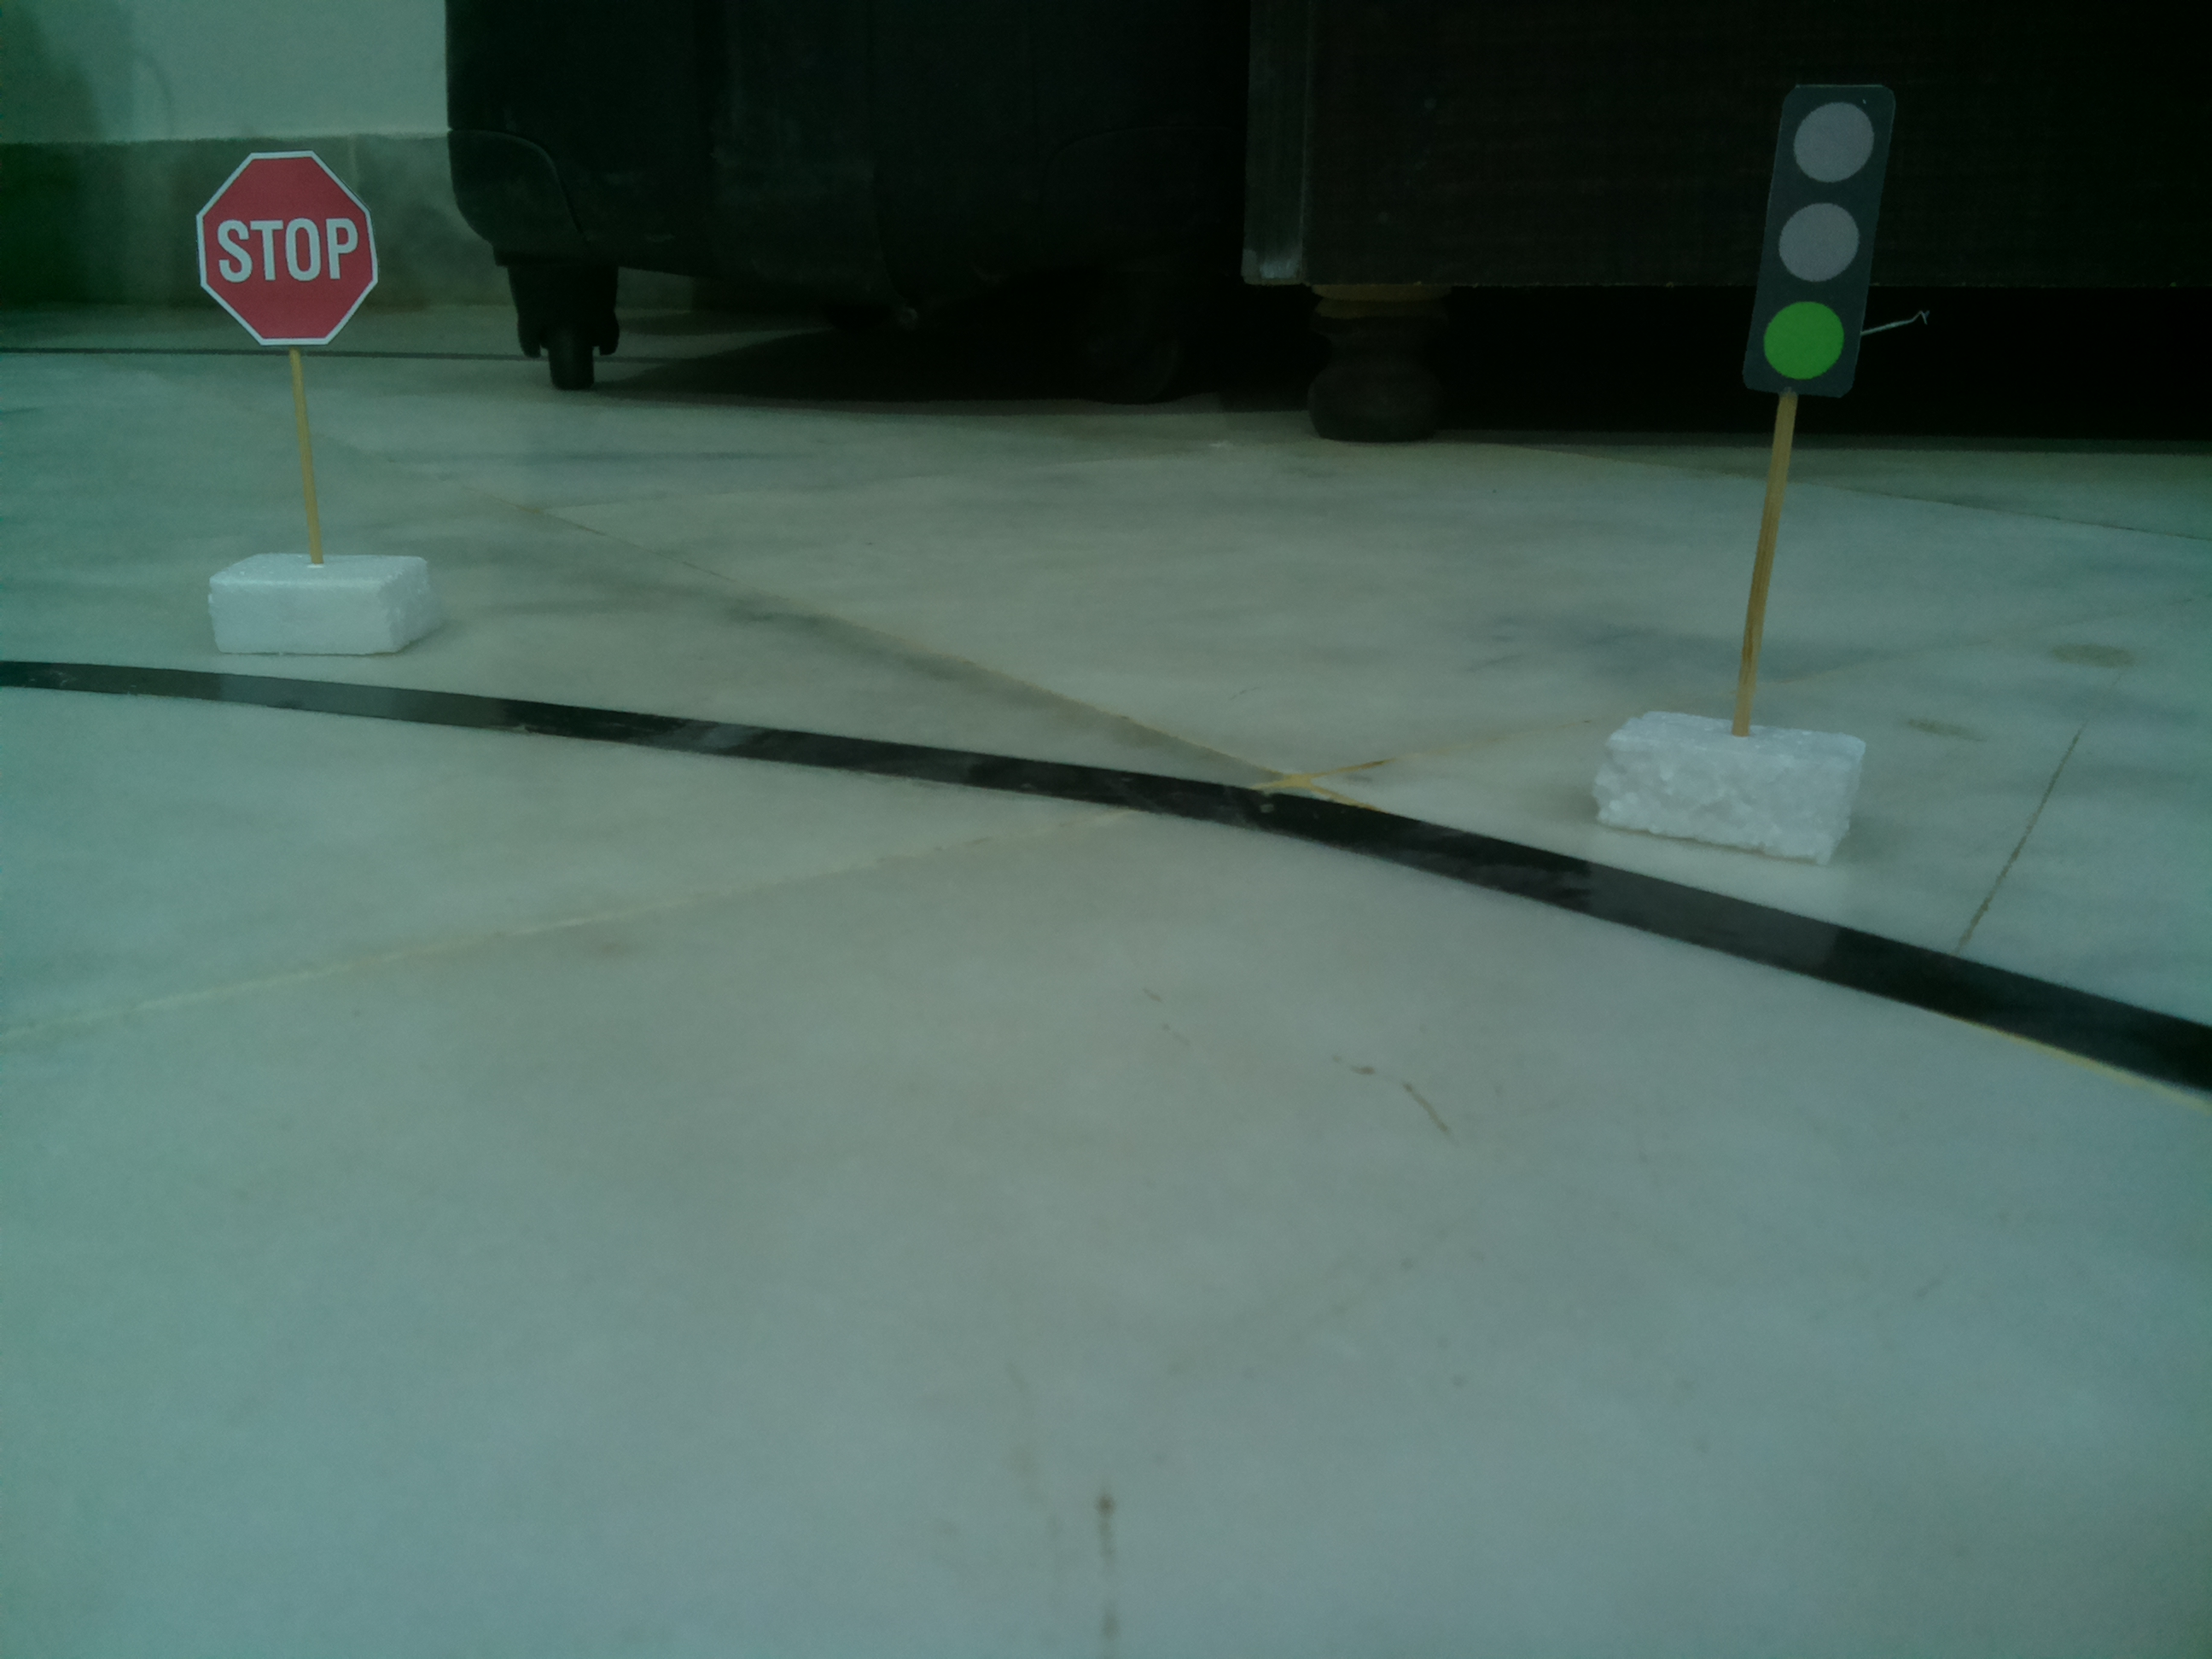Green traffic light: (1737, 75, 1905, 413)
Stop sign: (190, 139, 392, 354)
